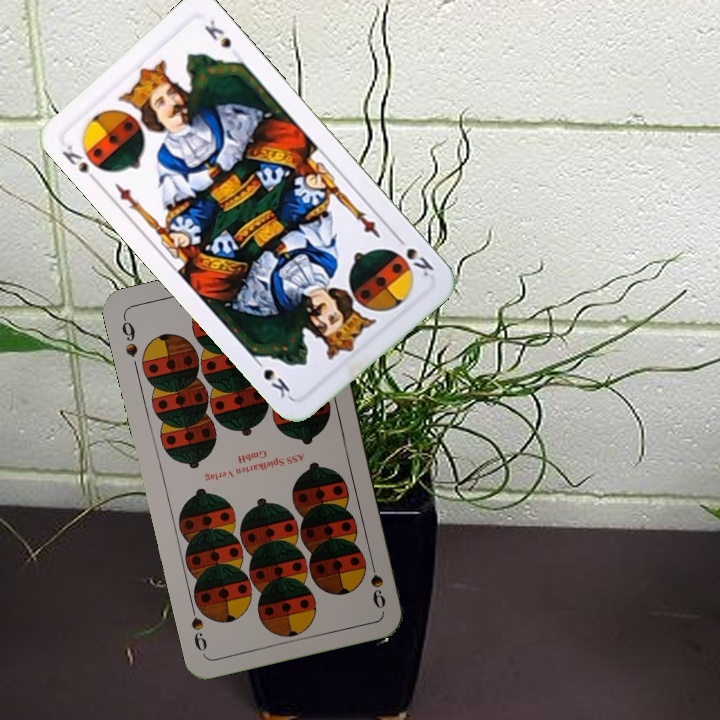S9: (365, 553, 388, 612), (117, 313, 141, 360)
SK: (391, 231, 437, 280), (58, 140, 102, 187)
